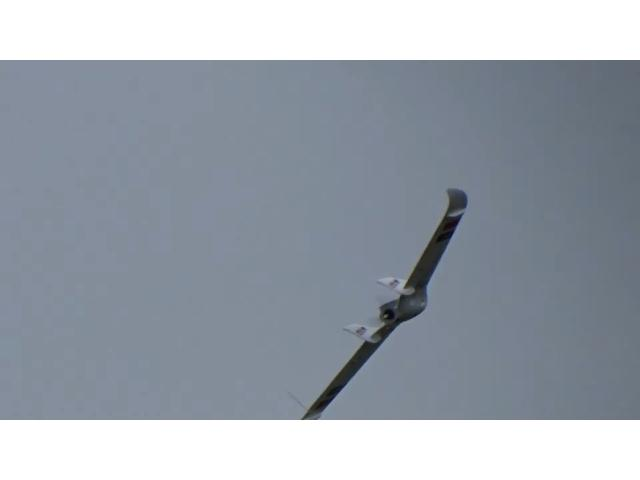Anti-Drone: (290, 189, 468, 419)
